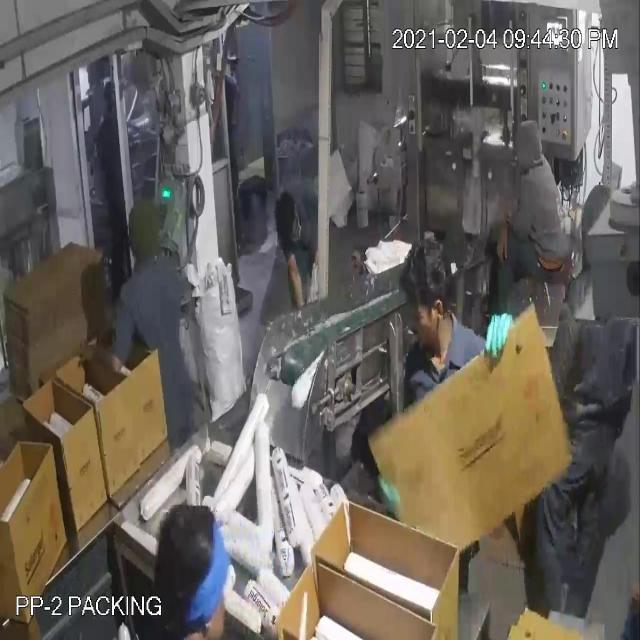No_Gloves: (24, 57, 507, 356)
